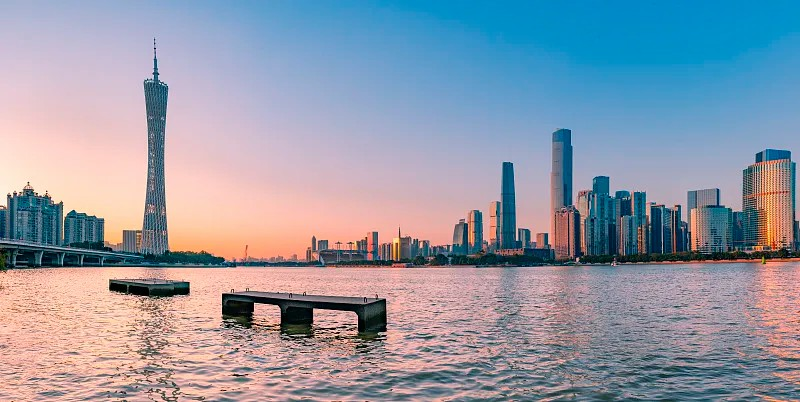Canton: (139, 36, 169, 257)
